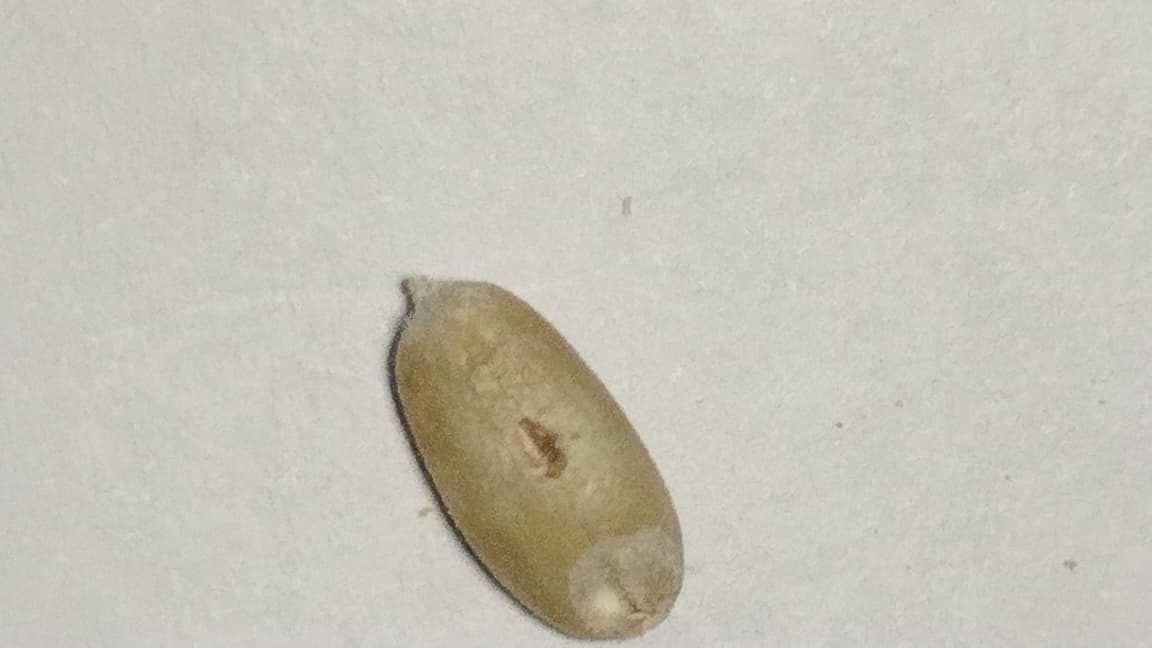damage: (392, 278, 683, 638)
insectdamage: (470, 365, 610, 485), (568, 527, 682, 638)
